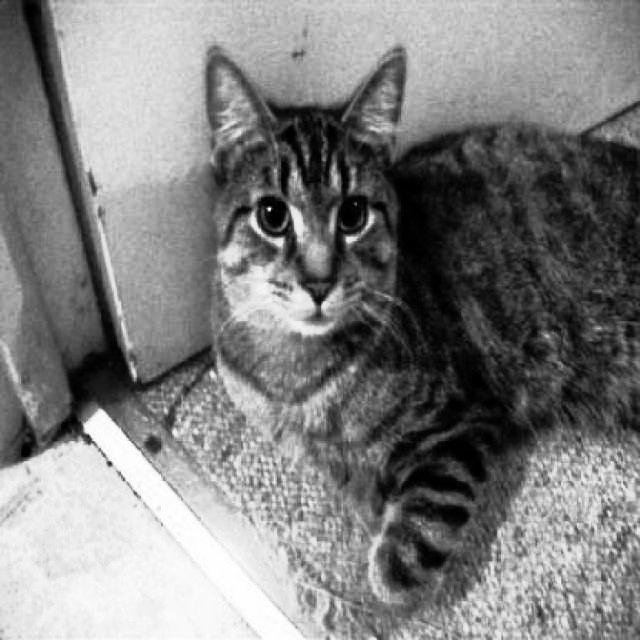Cat: (194, 40, 640, 611)
